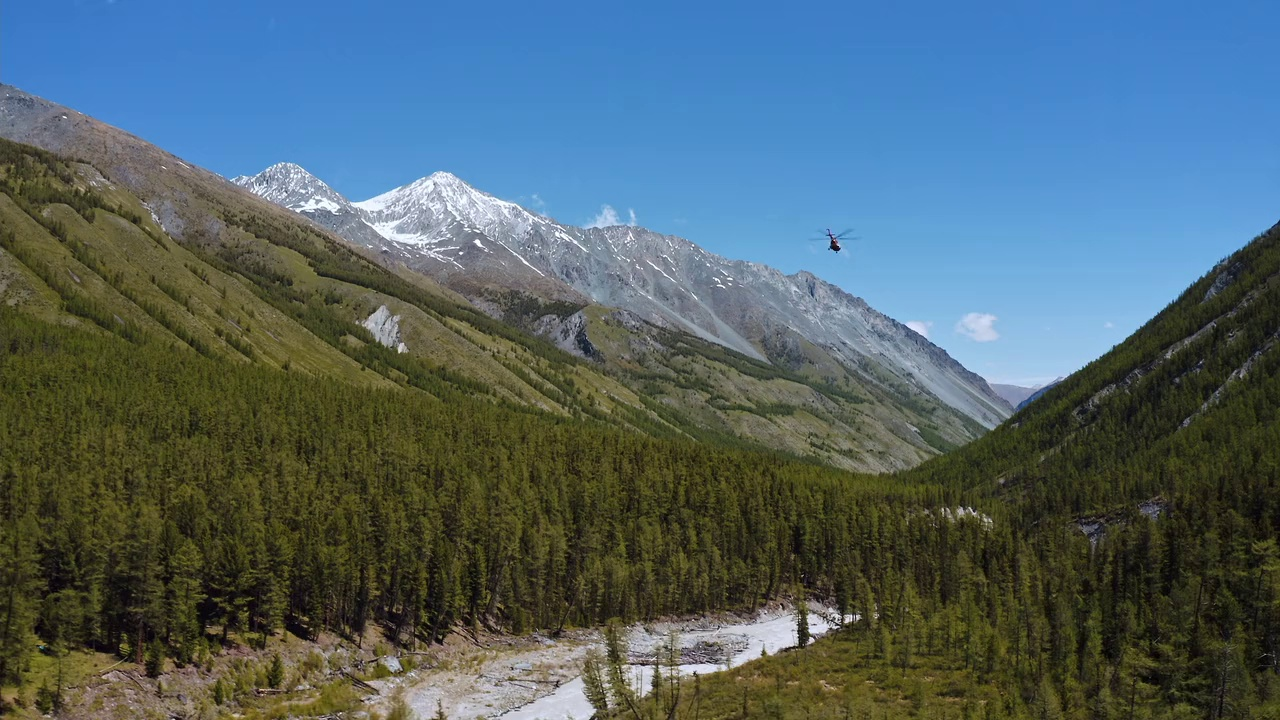heli: (807, 227, 861, 253)
